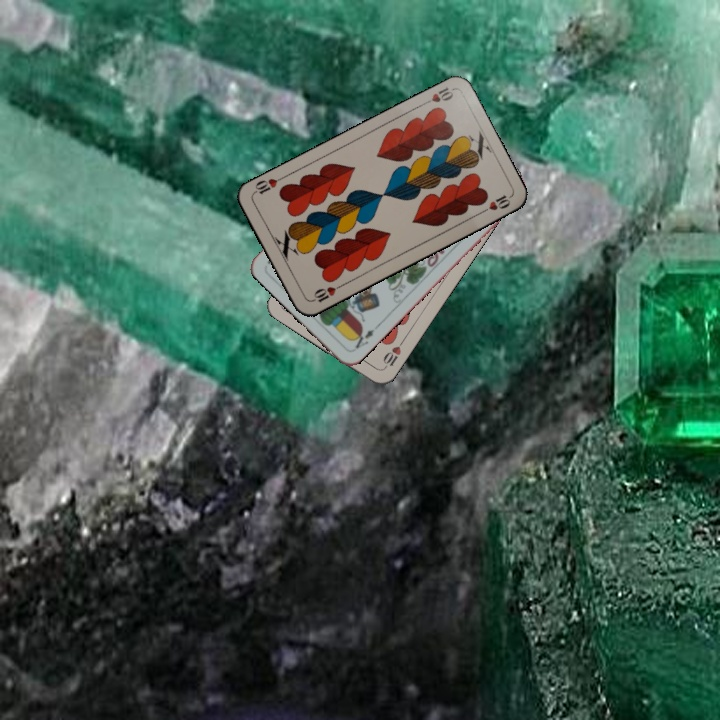EA: (348, 321, 381, 351)
H10: (379, 336, 407, 372), (307, 280, 345, 305), (418, 83, 456, 108)
